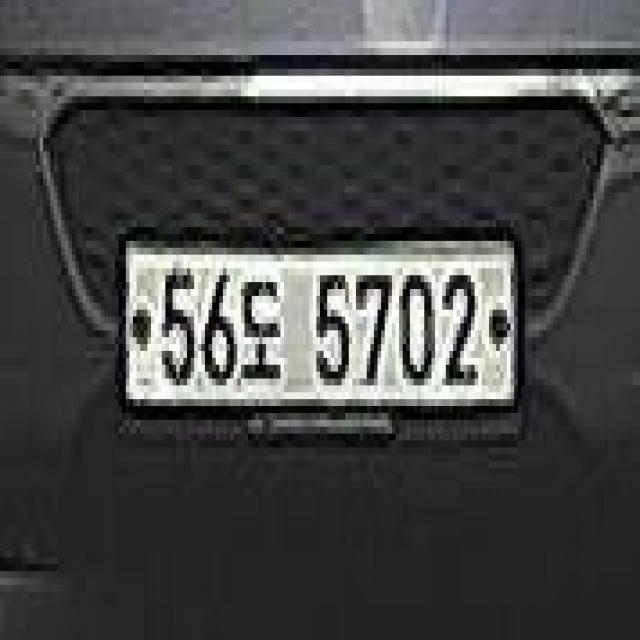illegal_plate: (114, 221, 530, 457)
